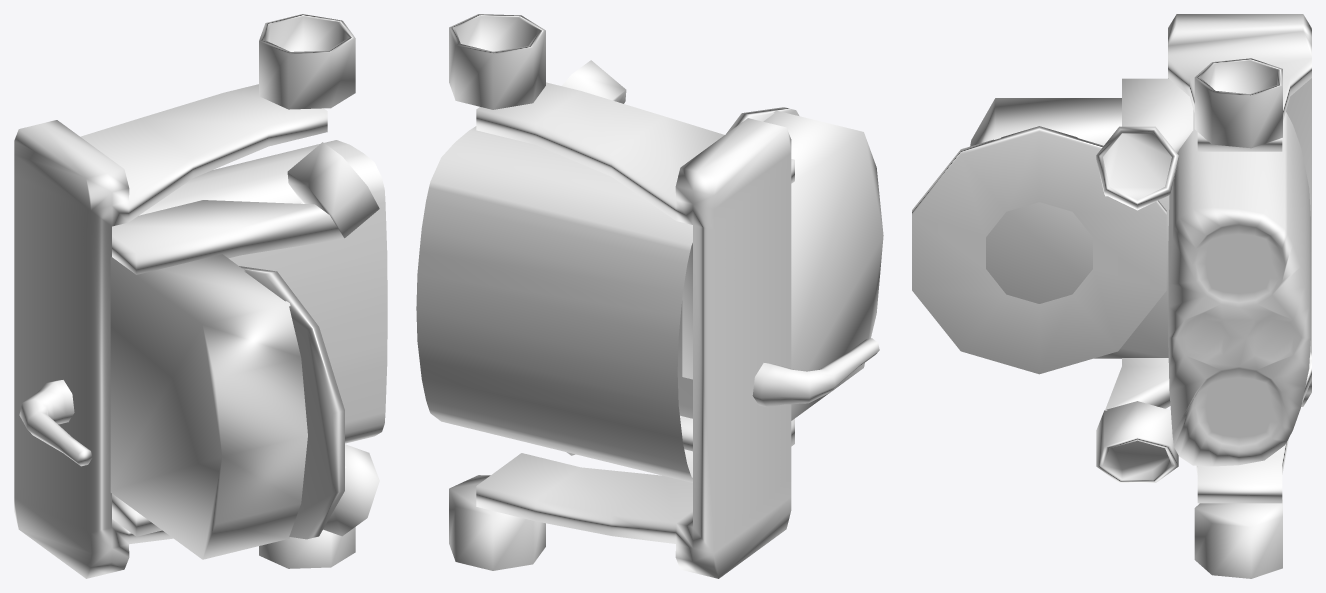
File: head.obj
The picture shows the model from 3 angles, left to right: view 1: azimuth 30°, elevation 25°; view 2: azimuth 150°, elevation 25°; view 3: azimuth 270°, elevation 25°; orthographic projection. The views are drawn at different scales.
Bounding box in the file's own units: 0.1679 × 0.235 × 0.1765.
